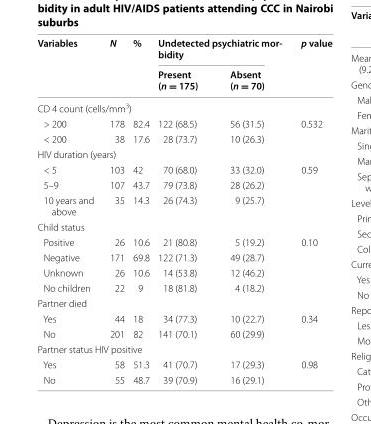table: (36, 36, 331, 385)
table column: (213, 36, 290, 385), (36, 36, 101, 385), (153, 36, 213, 385), (290, 36, 331, 385), (101, 36, 128, 385), (128, 36, 153, 385)
table column header: (36, 36, 331, 99)
table projected row header: (36, 99, 331, 115), (36, 218, 331, 234), (36, 146, 331, 161), (36, 295, 331, 310), (36, 341, 331, 356)
table row: (36, 63, 331, 99), (36, 36, 331, 63), (36, 192, 331, 218), (36, 99, 331, 115), (36, 130, 331, 146), (36, 176, 331, 192), (36, 218, 331, 234), (36, 279, 331, 295), (36, 325, 331, 341), (36, 115, 331, 130), (36, 146, 331, 161), (36, 161, 331, 176), (36, 234, 331, 249), (36, 249, 331, 264), (36, 264, 331, 279), (36, 295, 331, 310), (36, 310, 331, 325), (36, 341, 331, 356), (36, 356, 331, 371), (36, 371, 331, 385)
table spanning cell: (36, 36, 101, 99), (153, 36, 290, 63), (290, 36, 331, 99), (101, 36, 128, 99), (128, 36, 153, 99)
